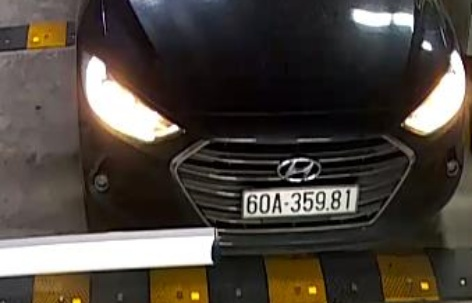plate: (241, 184, 364, 222)
